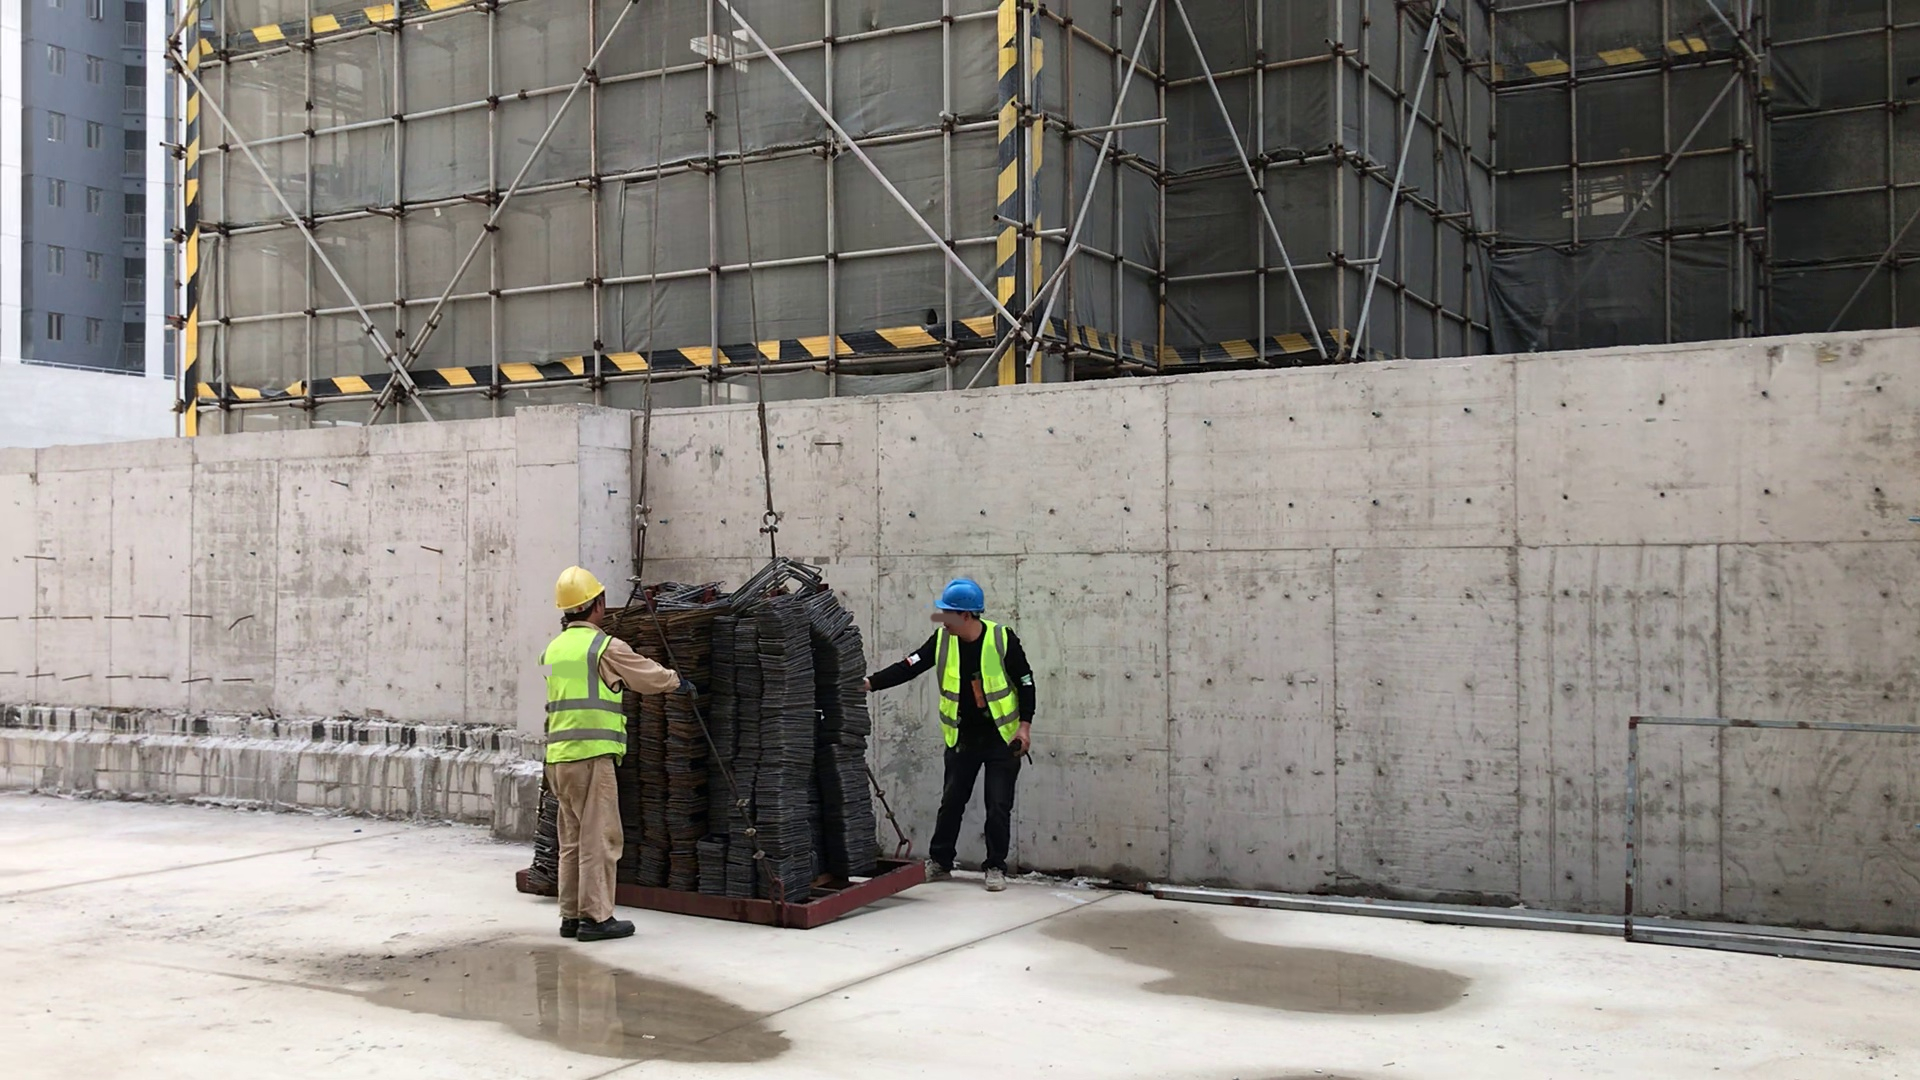helmet: (536, 559, 616, 614), (941, 571, 1004, 628)
person: (889, 557, 1072, 882), (556, 584, 655, 952)
vest: (537, 634, 638, 759), (919, 634, 1031, 731)
